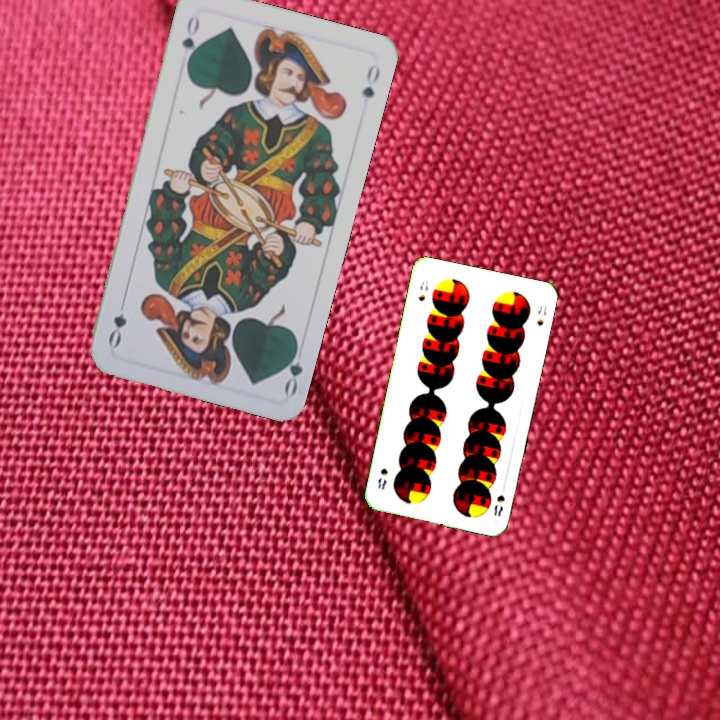GO: (277, 337, 306, 398), (177, 10, 203, 69)
S8: (490, 491, 507, 519), (414, 277, 431, 304)
